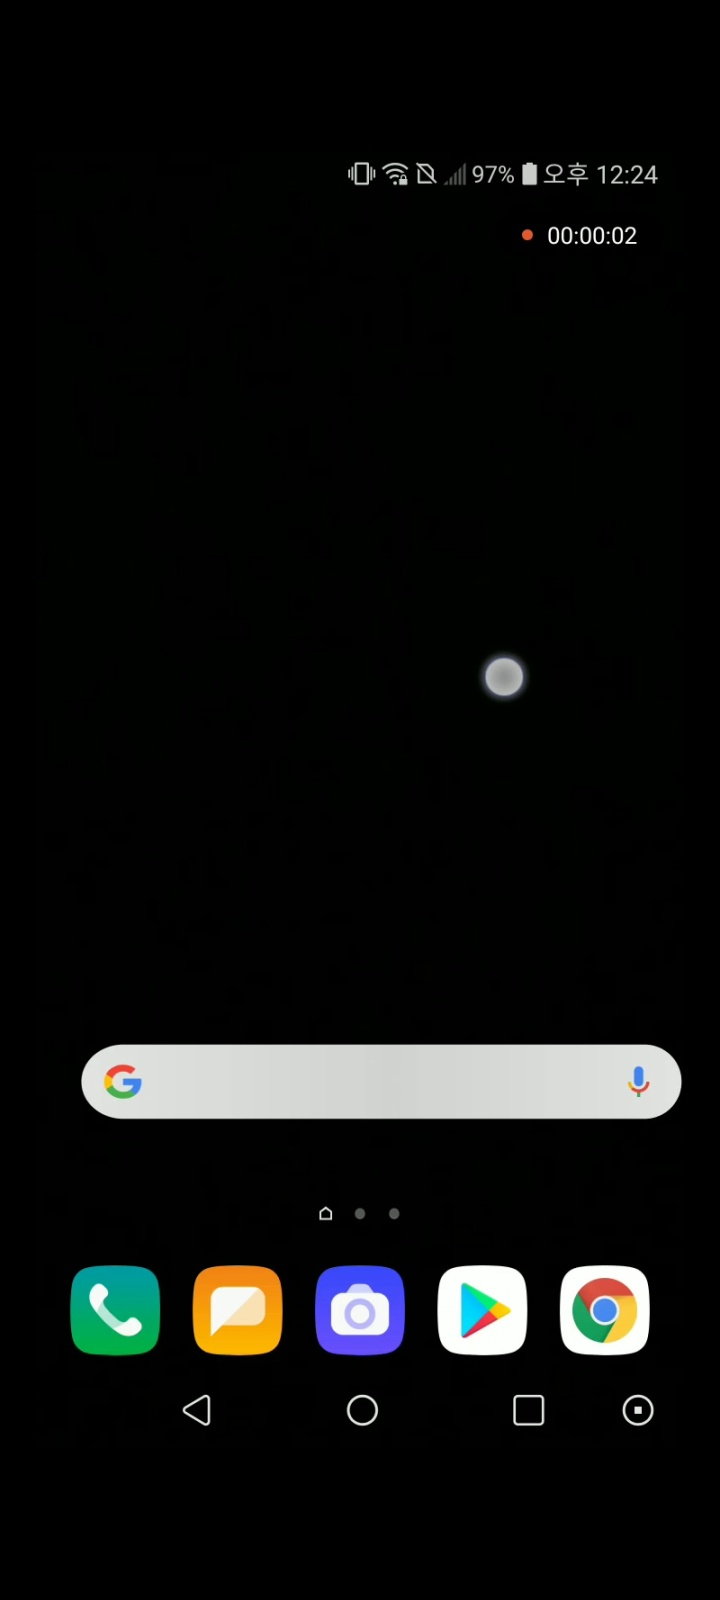Cursor: (481, 655, 526, 700)
